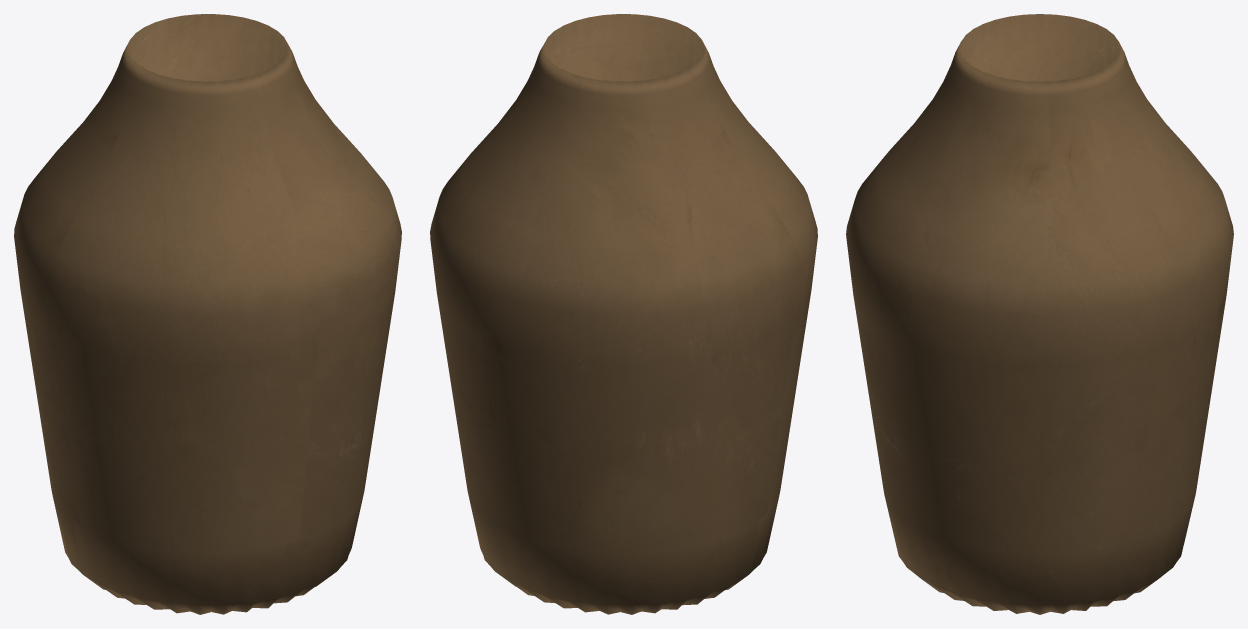
The model's file is Pot.glb.
The picture shows the model from 3 angles, left to right: view 1: azimuth 30°, elevation 25°; view 2: azimuth 150°, elevation 25°; view 3: azimuth 270°, elevation 25°; orthographic projection.
Parts seen in each view (by area): view 1: Cylinder; view 2: Cylinder; view 3: Cylinder.
Part boxes in pixels (x1=…): Cylinder: x1=14, y1=14, x2=401, y2=614; Cylinder: x1=430, y1=14, x2=817, y2=614; Cylinder: x1=846, y1=14, x2=1233, y2=614.
Bounding box in the file's own units: 1.94 × 2.91 × 1.94.
1 material, 1 textured.
